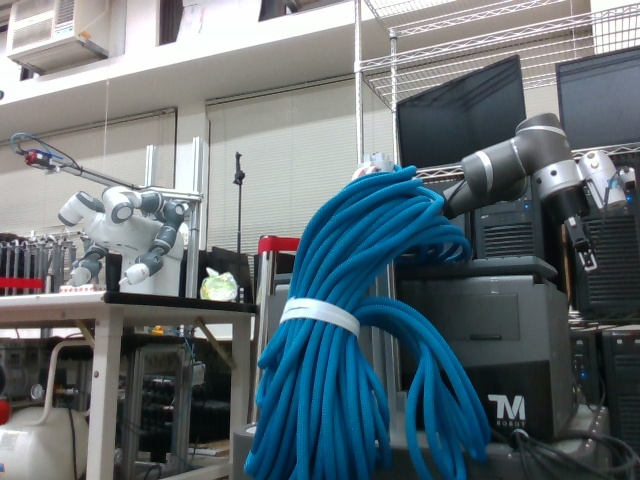rope: (243, 163, 491, 480)
